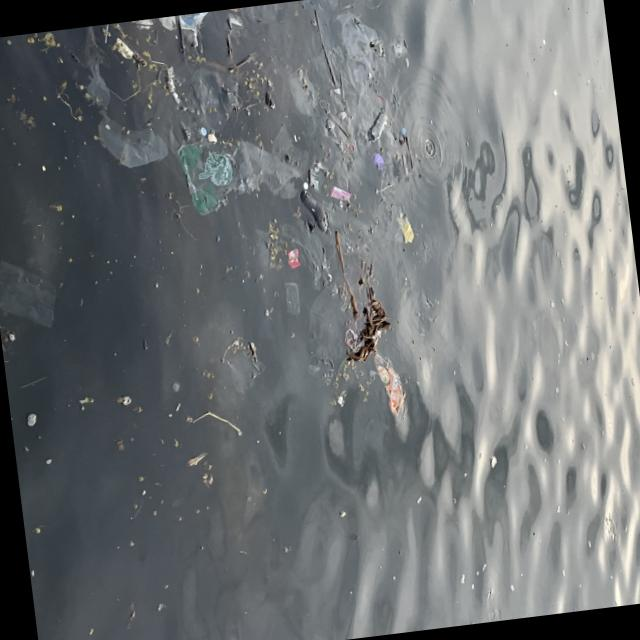plastic bag: (177, 138, 243, 216)
